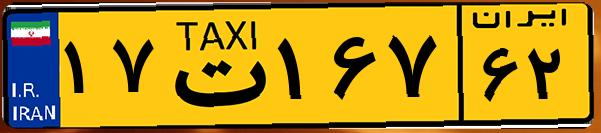1: (270, 28, 330, 110), (57, 26, 110, 100)
2: (525, 38, 570, 115)
6: (330, 28, 385, 110), (475, 38, 525, 113)
7: (385, 28, 445, 110), (110, 28, 158, 98)
ت: (158, 12, 270, 120)
